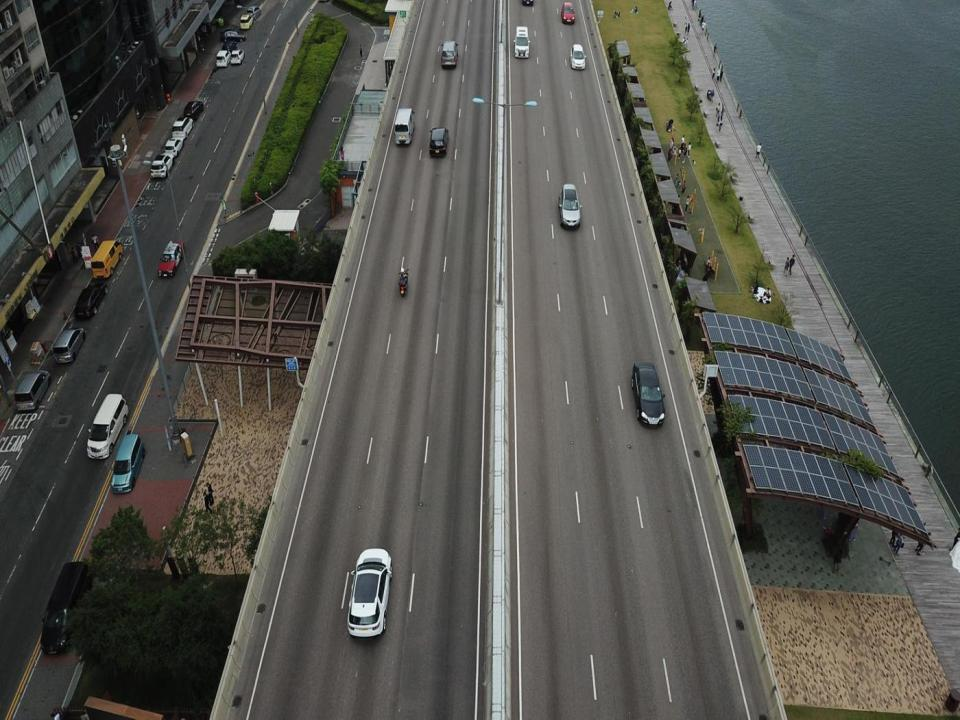car: (346, 546, 392, 638), (631, 359, 665, 429), (111, 433, 141, 494), (74, 281, 110, 320), (558, 182, 582, 228), (158, 240, 183, 279), (427, 125, 449, 159), (150, 153, 174, 179), (171, 112, 194, 138), (568, 43, 588, 70), (220, 26, 246, 43), (164, 135, 184, 156), (183, 98, 203, 118), (560, 0, 576, 25), (215, 49, 231, 68), (228, 47, 245, 64), (239, 11, 254, 29), (247, 6, 262, 19)
van: (39, 559, 91, 657), (85, 391, 130, 461), (14, 367, 49, 413), (89, 238, 124, 278), (51, 327, 85, 362), (392, 106, 417, 147), (438, 36, 459, 68), (514, 25, 532, 57)
